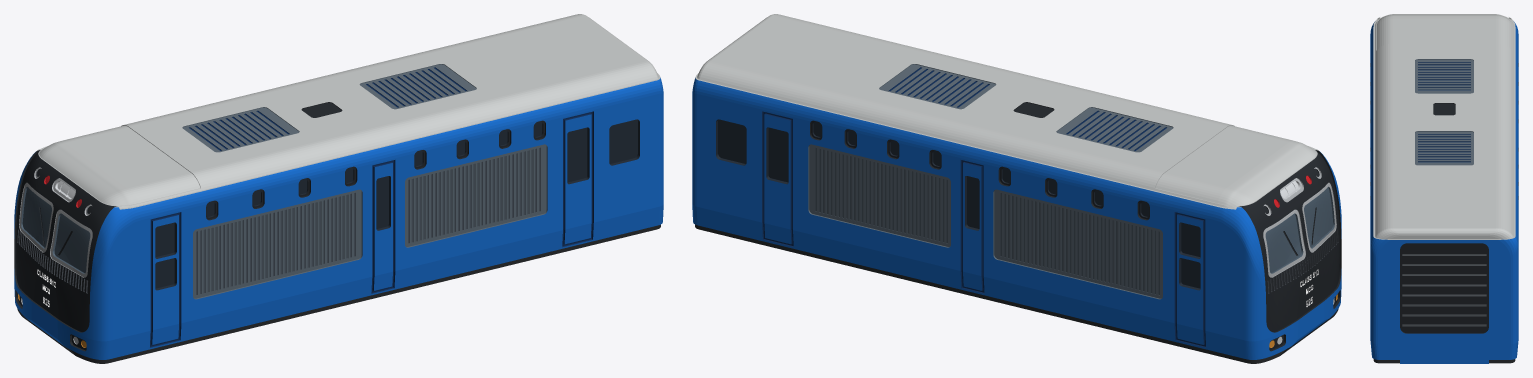
Rendered from lanka-s12.glb.
3 views of the same model, side by side, from view 1: azimuth 30°, elevation 25°; view 2: azimuth 150°, elevation 25°; view 3: azimuth 270°, elevation 25° (orthographic). The views are drawn at different scales.
Visible parts, largest first — view 1: slr_lanka-s12; view 2: slr_lanka-s12; view 3: slr_lanka-s12.
Boxes of the visible parts, x1,y1,x2,y2 form: slr_lanka-s12: (14,14,663,363); slr_lanka-s12: (692,14,1341,363); slr_lanka-s12: (1370,14,1518,363).
Bounding box in the file's own units: 150 × 39.6 × 40.
